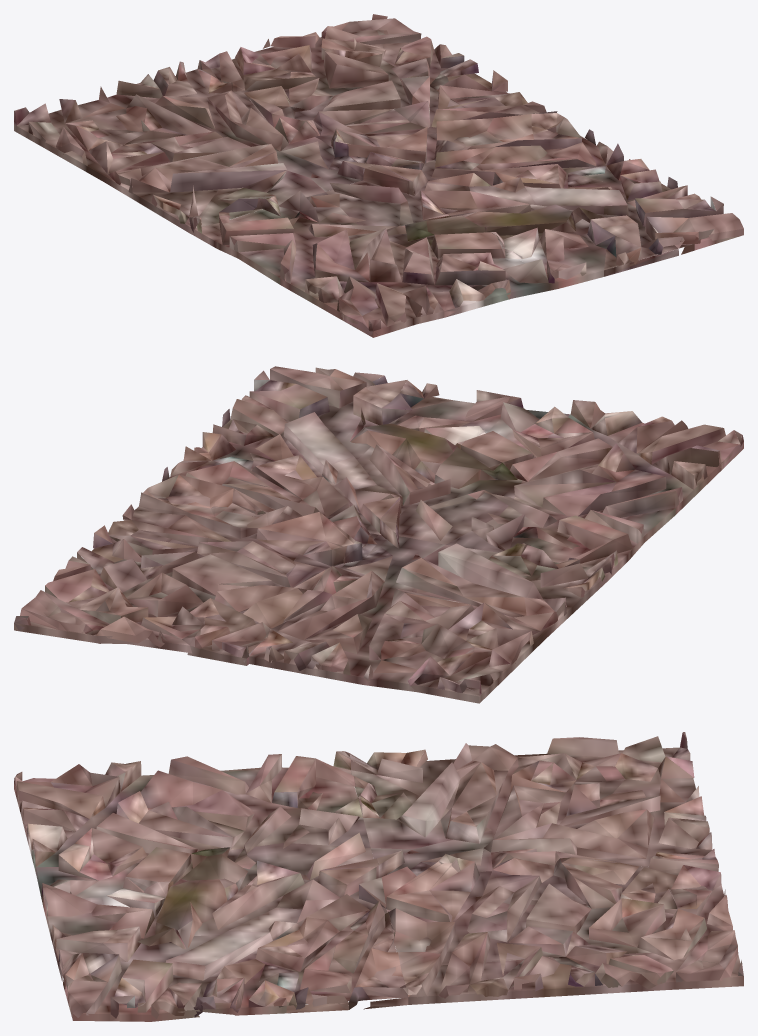
3 views of the same model, one above another, from view 1: azimuth 30°, elevation 25°; view 2: azimuth 150°, elevation 25°; view 3: azimuth 270°, elevation 25° (orthographic). The views are drawn at different scales.
Parts seen in each view (by area): view 1: Mesh_0; view 2: Mesh_0; view 3: Mesh_0.
Part boxes in pixels (x1,y1,x2,y2): Mesh_0: [14, 14, 743, 337]; Mesh_0: [14, 366, 743, 703]; Mesh_0: [14, 732, 743, 1021].
Size of the model in its own units: 533 by 49.03 by 659.
2 materials, 2 textured.
